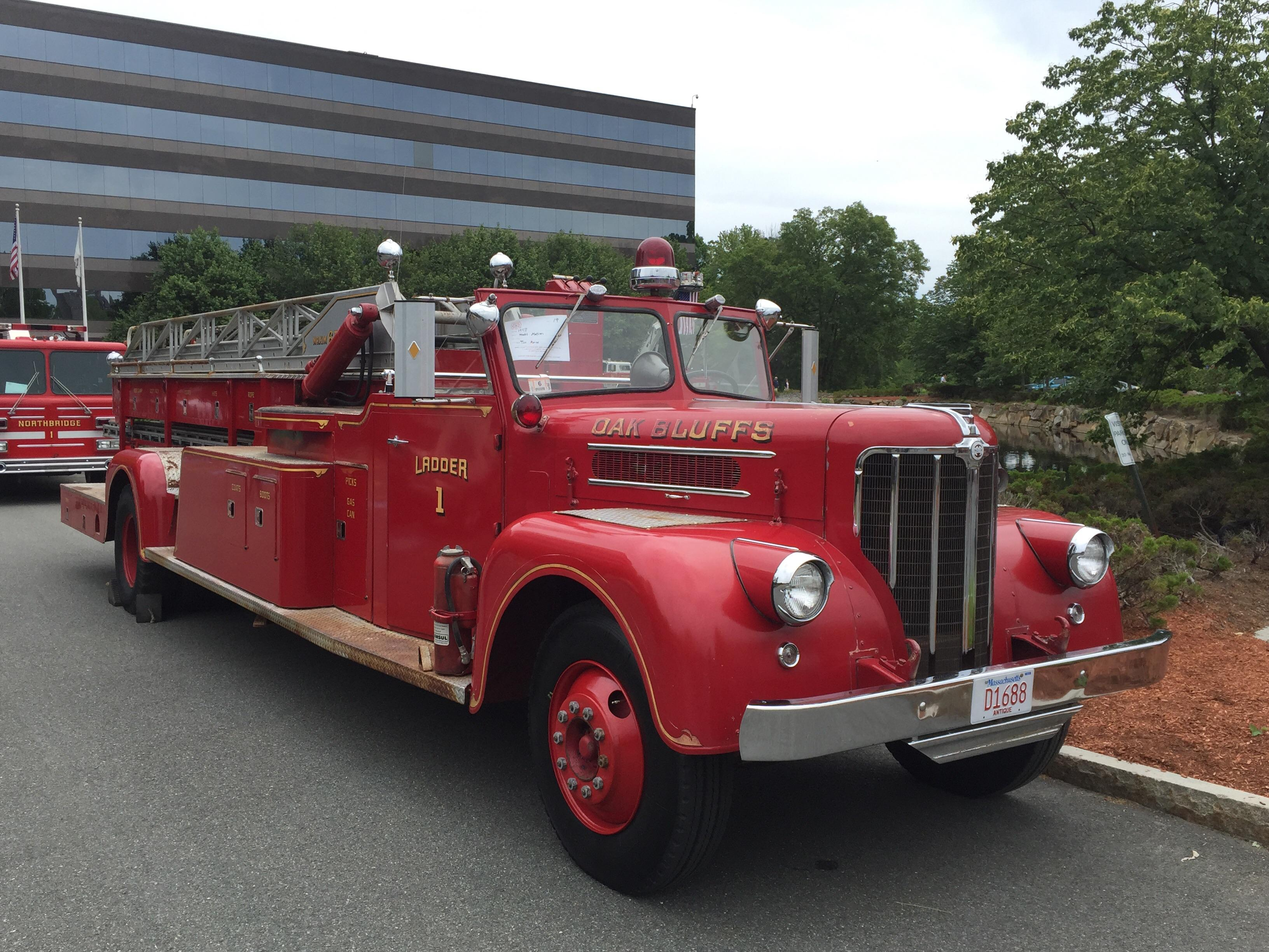Fire-engine: (58, 234, 1173, 898), (0, 322, 128, 484)
